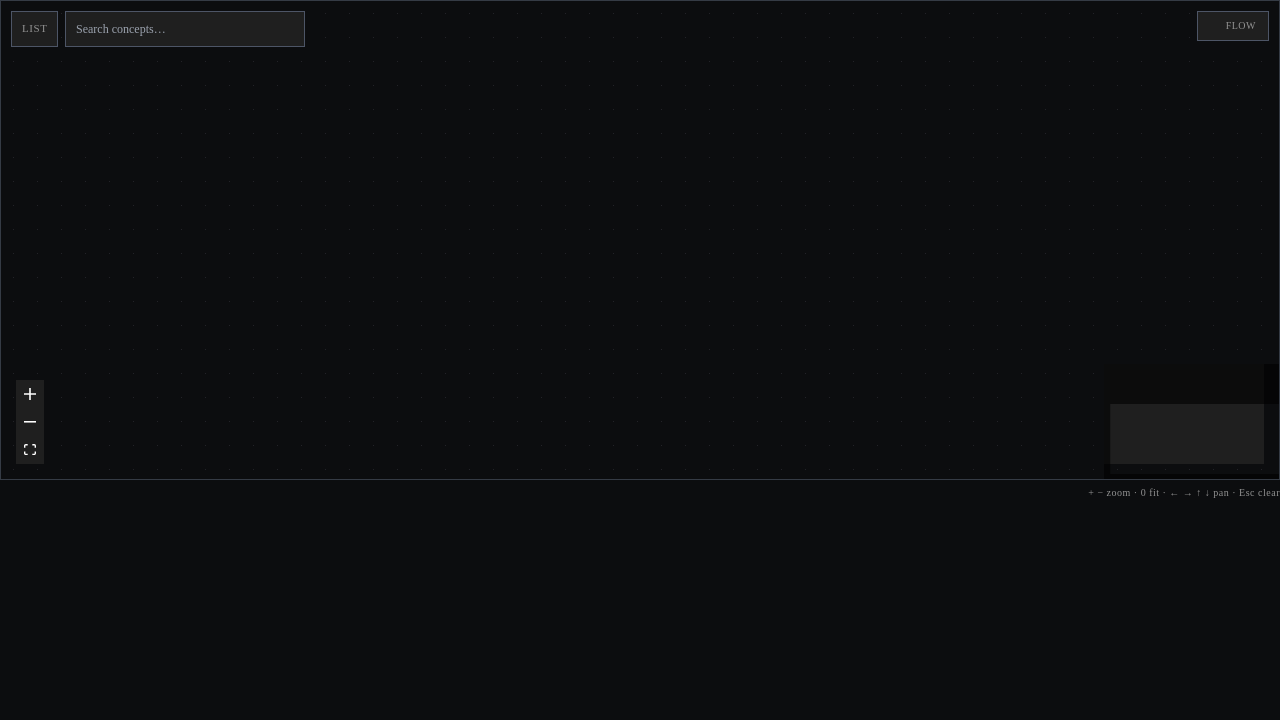
ConceptGraphFlow › filters the list view and reports no matches for junk queries
The image size is (1280, 720).
Click the button with aria-label "Open concept list" at (35, 29), box [11, 11, 58, 47]
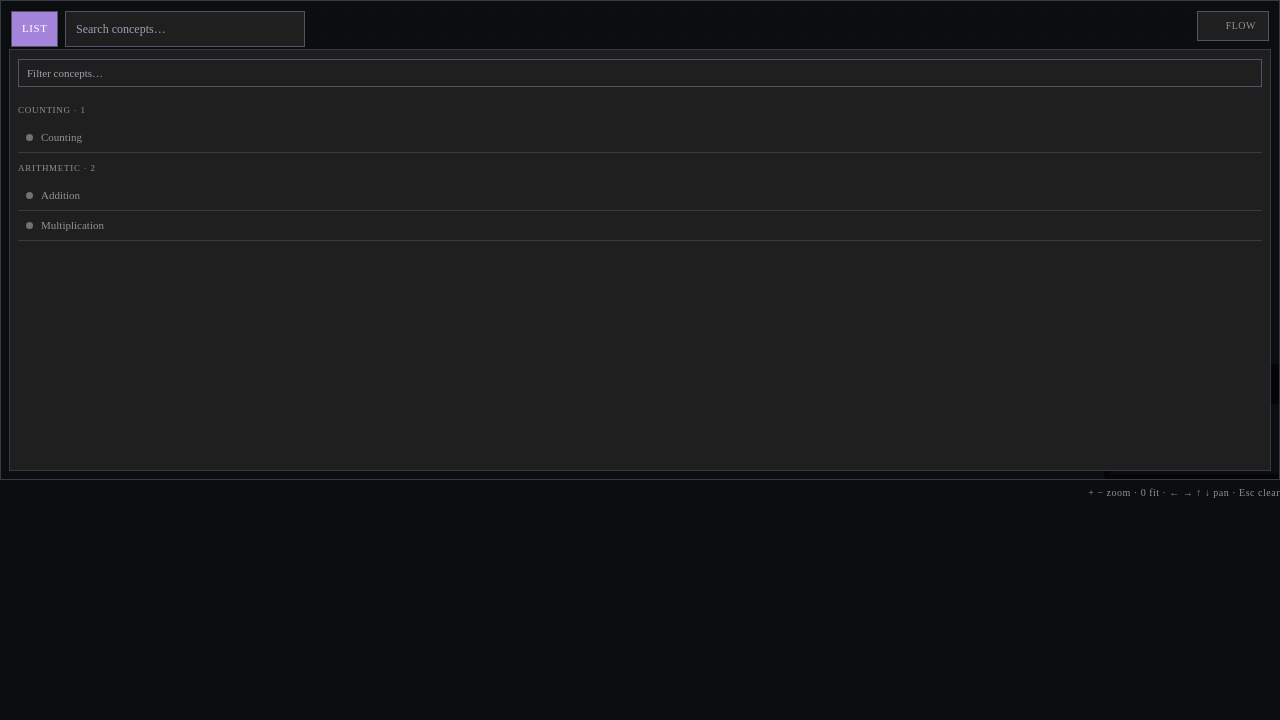
Type "zzzz" into the field labelled "Filter concepts" at (640, 73), box [18, 59, 1262, 87]
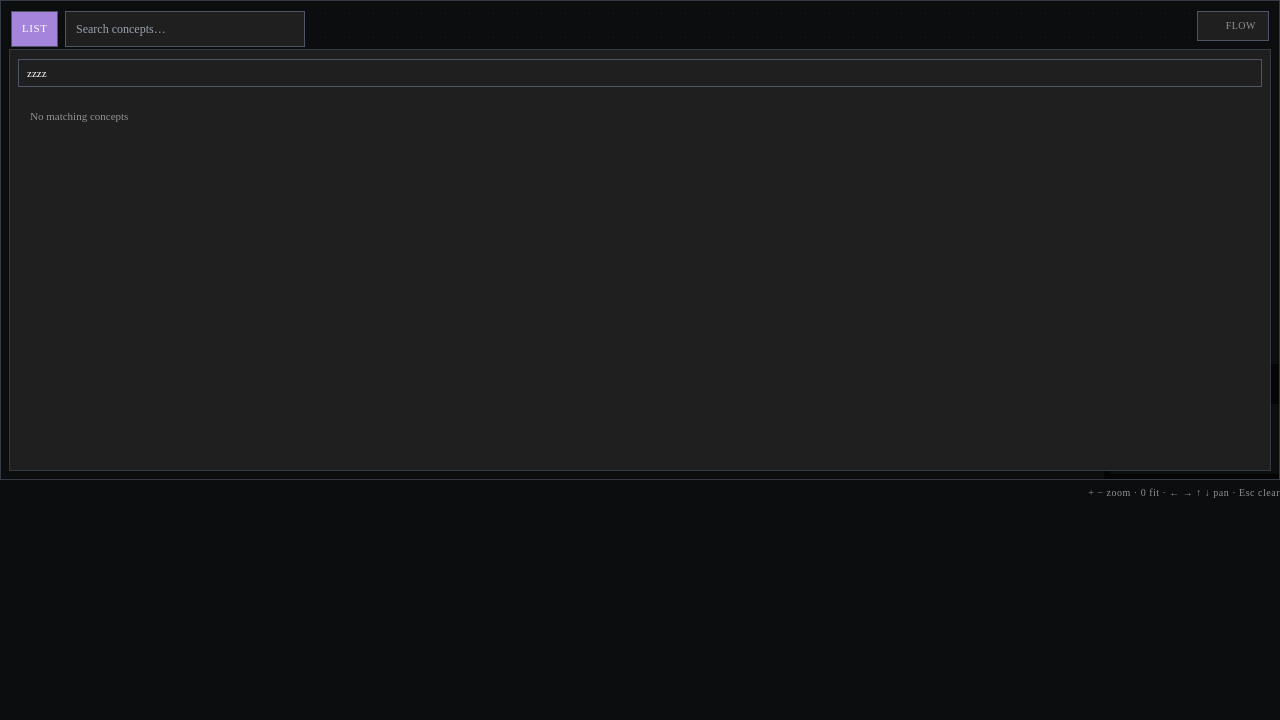
Expected: the text "No matching concepts" is shown, [30, 110, 128, 122]
Press Escape in the field named "Filter concepts", box [18, 59, 1262, 87]
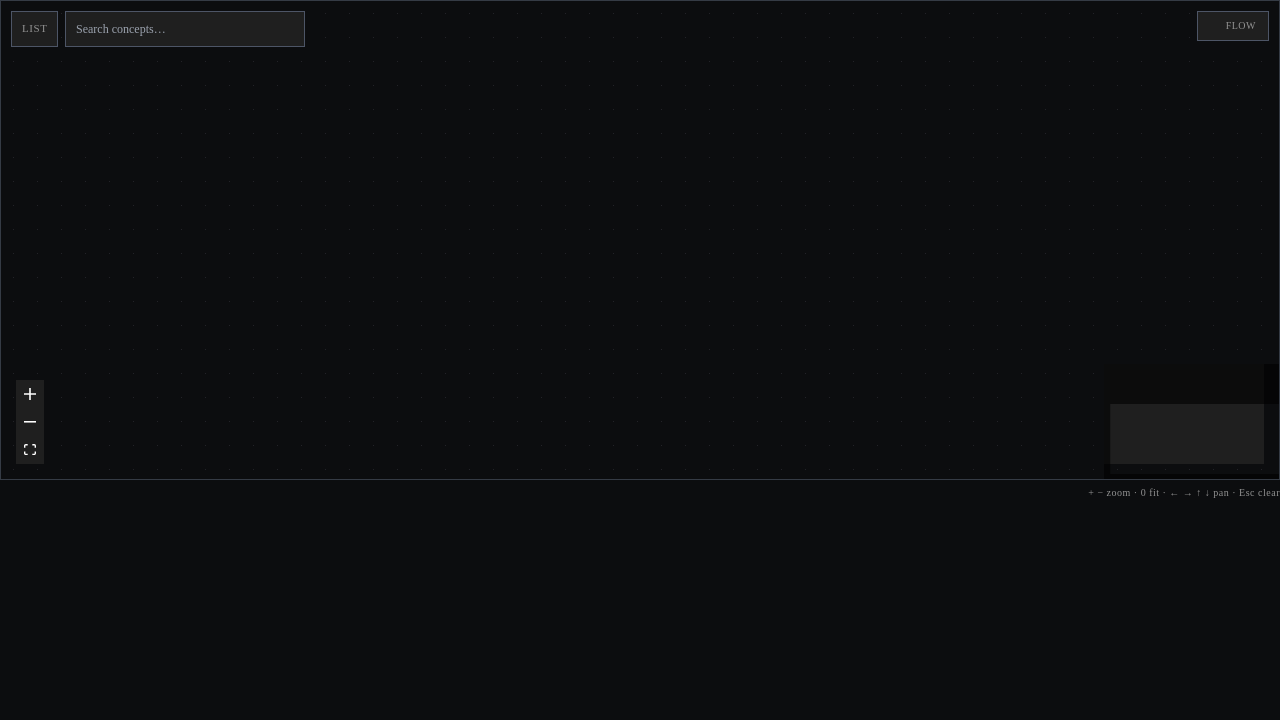
Expected: the dialog is gone
